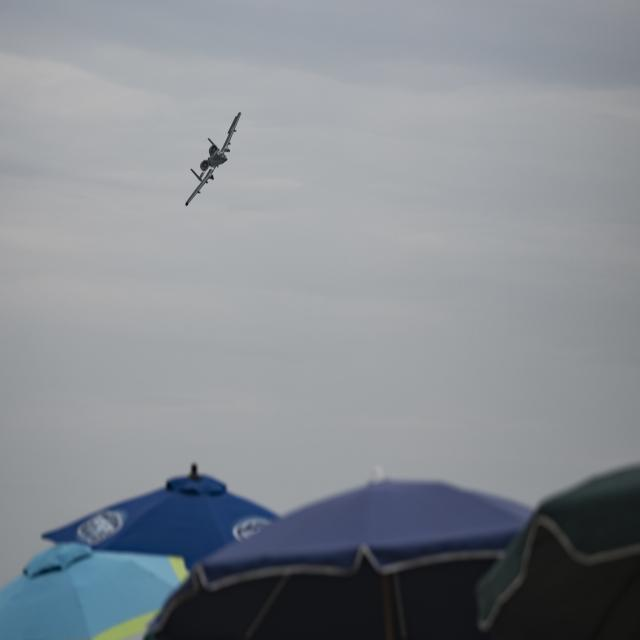MIL_Plane: (185, 112, 242, 206)
